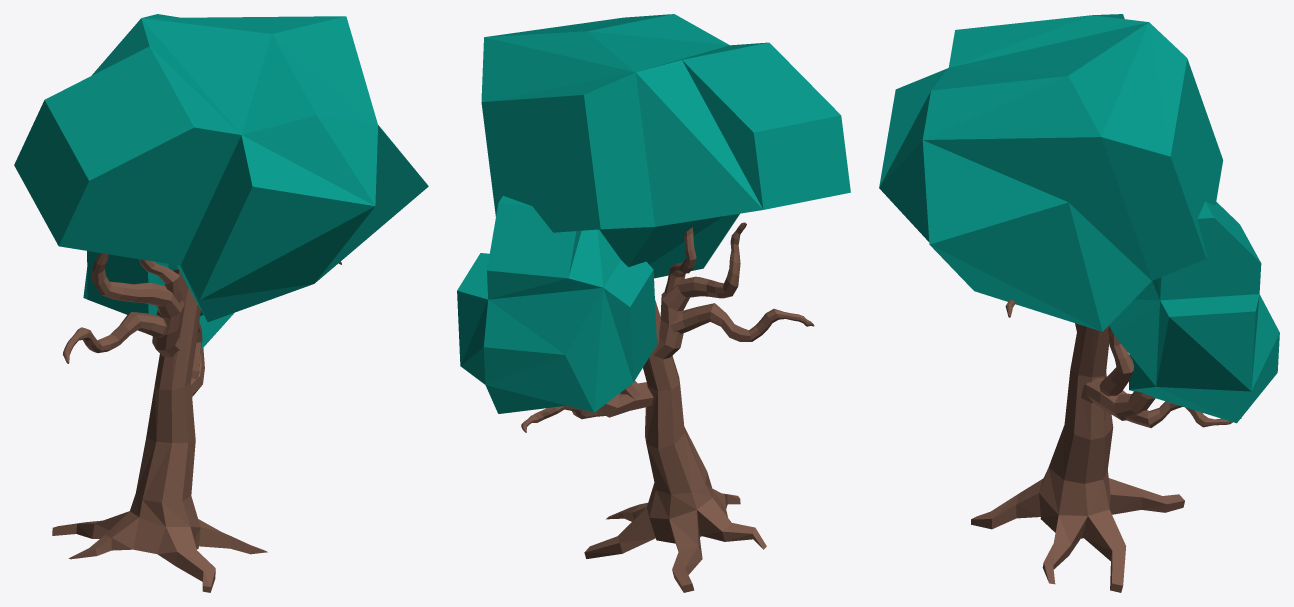
File: Oak.glb
3 renders of one model, left to right at view 1: azimuth 30°, elevation 25°; view 2: azimuth 150°, elevation 25°; view 3: azimuth 270°, elevation 25°, orthographic. The views are drawn at different scales.
Visible parts, largest first — view 1: group116158582; view 2: group116158582; view 3: group116158582.
Boxes of the visible parts, x1,y1,x2,y2 form: group116158582: (14,14,428,592); group116158582: (457,14,850,592); group116158582: (879,14,1279,592).
Bounding box in the file's own units: 0.24 × 0.3649 × 0.2462.
